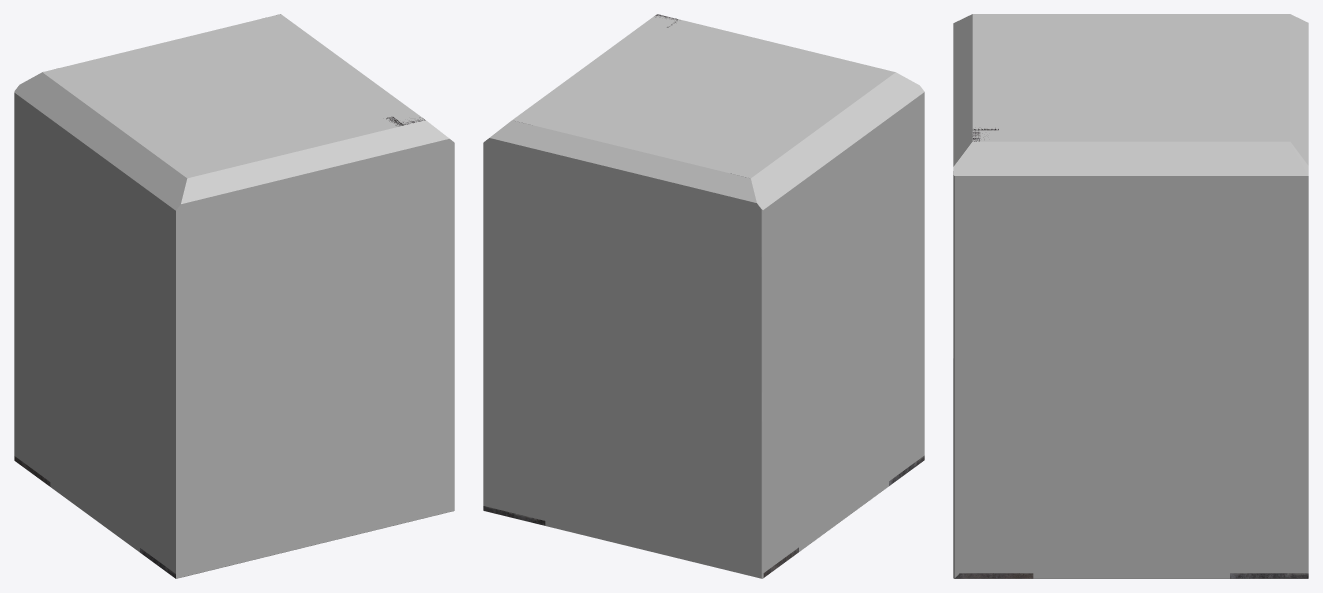
File: SM_copmensator_base.fbx
3 renders of one model, left to right at view 1: azimuth 30°, elevation 25°; view 2: azimuth 150°, elevation 25°; view 3: azimuth 270°, elevation 25°, orthographic. The views are drawn at different scales.
Parts seen in each view (by area): view 1: SM_copmensator_base_ConvexHulls; view 2: SM_copmensator_base_ConvexHulls, SM_copmensator_base; view 3: SM_copmensator_base_ConvexHulls, SM_copmensator_base.
Boxes of the visible parts, x1,y1,x2,y2 form: SM_copmensator_base_ConvexHulls: [14, 14, 454, 578]; SM_copmensator_base_ConvexHulls: [483, 14, 924, 578]; SM_copmensator_base: [483, 14, 924, 577]; SM_copmensator_base_ConvexHulls: [953, 14, 1308, 578]; SM_copmensator_base: [955, 128, 1308, 578].
Bounding box in the file's own units: 275 × 276 × 367.
2 materials, 1 textured.
